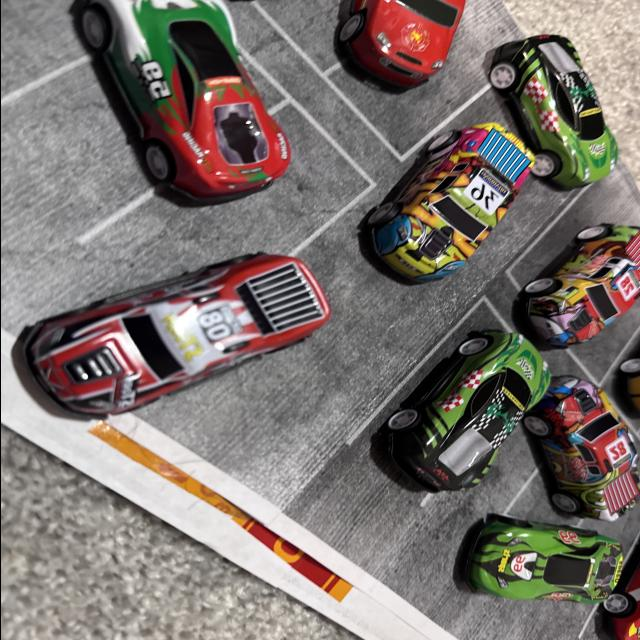car: (0, 234, 344, 428), (39, 0, 295, 216), (360, 354, 546, 502), (354, 109, 538, 253), (442, 504, 634, 625), (514, 354, 638, 518), (498, 30, 608, 210), (534, 186, 640, 326), (540, 522, 640, 640), (338, 0, 458, 75), (591, 339, 640, 427)
